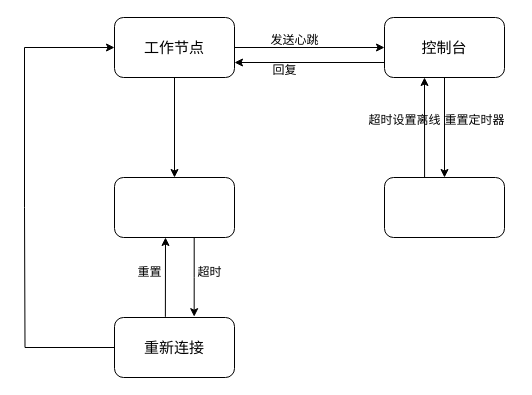
This 532x395 diagram has some shape labels left out. The centre of each missing label's shape, as x and y in pixels:
"工作节点 心跳定时器" goes at point (174, 207).
"控制台 心跳定时器" goes at point (444, 207).
